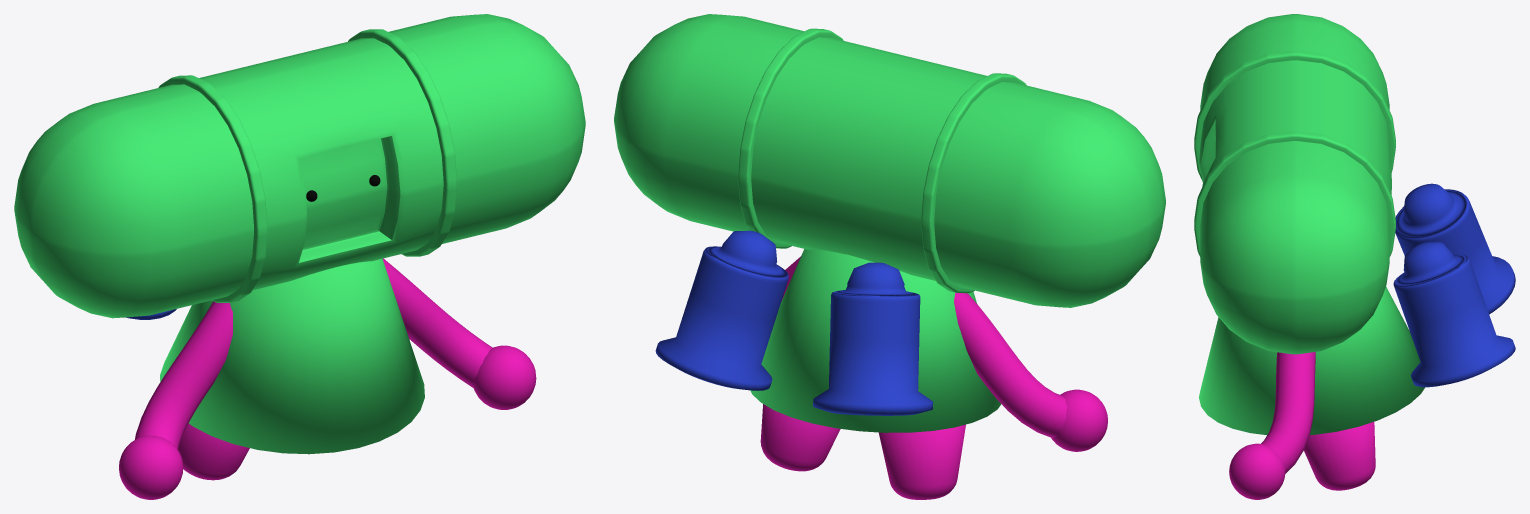
File: 230311_player_minigamejam.fbx
3 renders of one model, left to right at view 1: azimuth 30°, elevation 25°; view 2: azimuth 150°, elevation 25°; view 3: azimuth 270°, elevation 25°, orthographic. The views are drawn at different scales.
Parts seen in each view (by area): view 1: Cube, Cylinder, BezierCurve, Cylinder.001; view 2: Cube, Cylinder.002, Cylinder, BezierCurve, Cylinder.001; view 3: Cube, Cylinder.002, Cylinder, BezierCurve, Cylinder.001.
Boxes of the visible parts, <box> form: Cube: <box>14,14,585,318</box>; Cylinder: <box>160,258,424,454</box>; BezierCurve: <box>119,258,536,499</box>; Cylinder.001: <box>178,423,249,480</box>; Cube: <box>614,14,1165,307</box>; Cylinder.002: <box>655,230,933,415</box>; Cylinder: <box>750,249,1001,432</box>; BezierCurve: <box>781,256,1107,451</box>; Cylinder.001: <box>760,404,965,499</box>; Cube: <box>1194,14,1395,354</box>; Cylinder.002: <box>1393,183,1515,387</box>; Cylinder: <box>1199,286,1424,435</box>; BezierCurve: <box>1229,352,1315,499</box>; Cylinder.001: <box>1304,422,1375,490</box>.
Bounding box in the file's own units: 2042 × 1512 × 1207.
